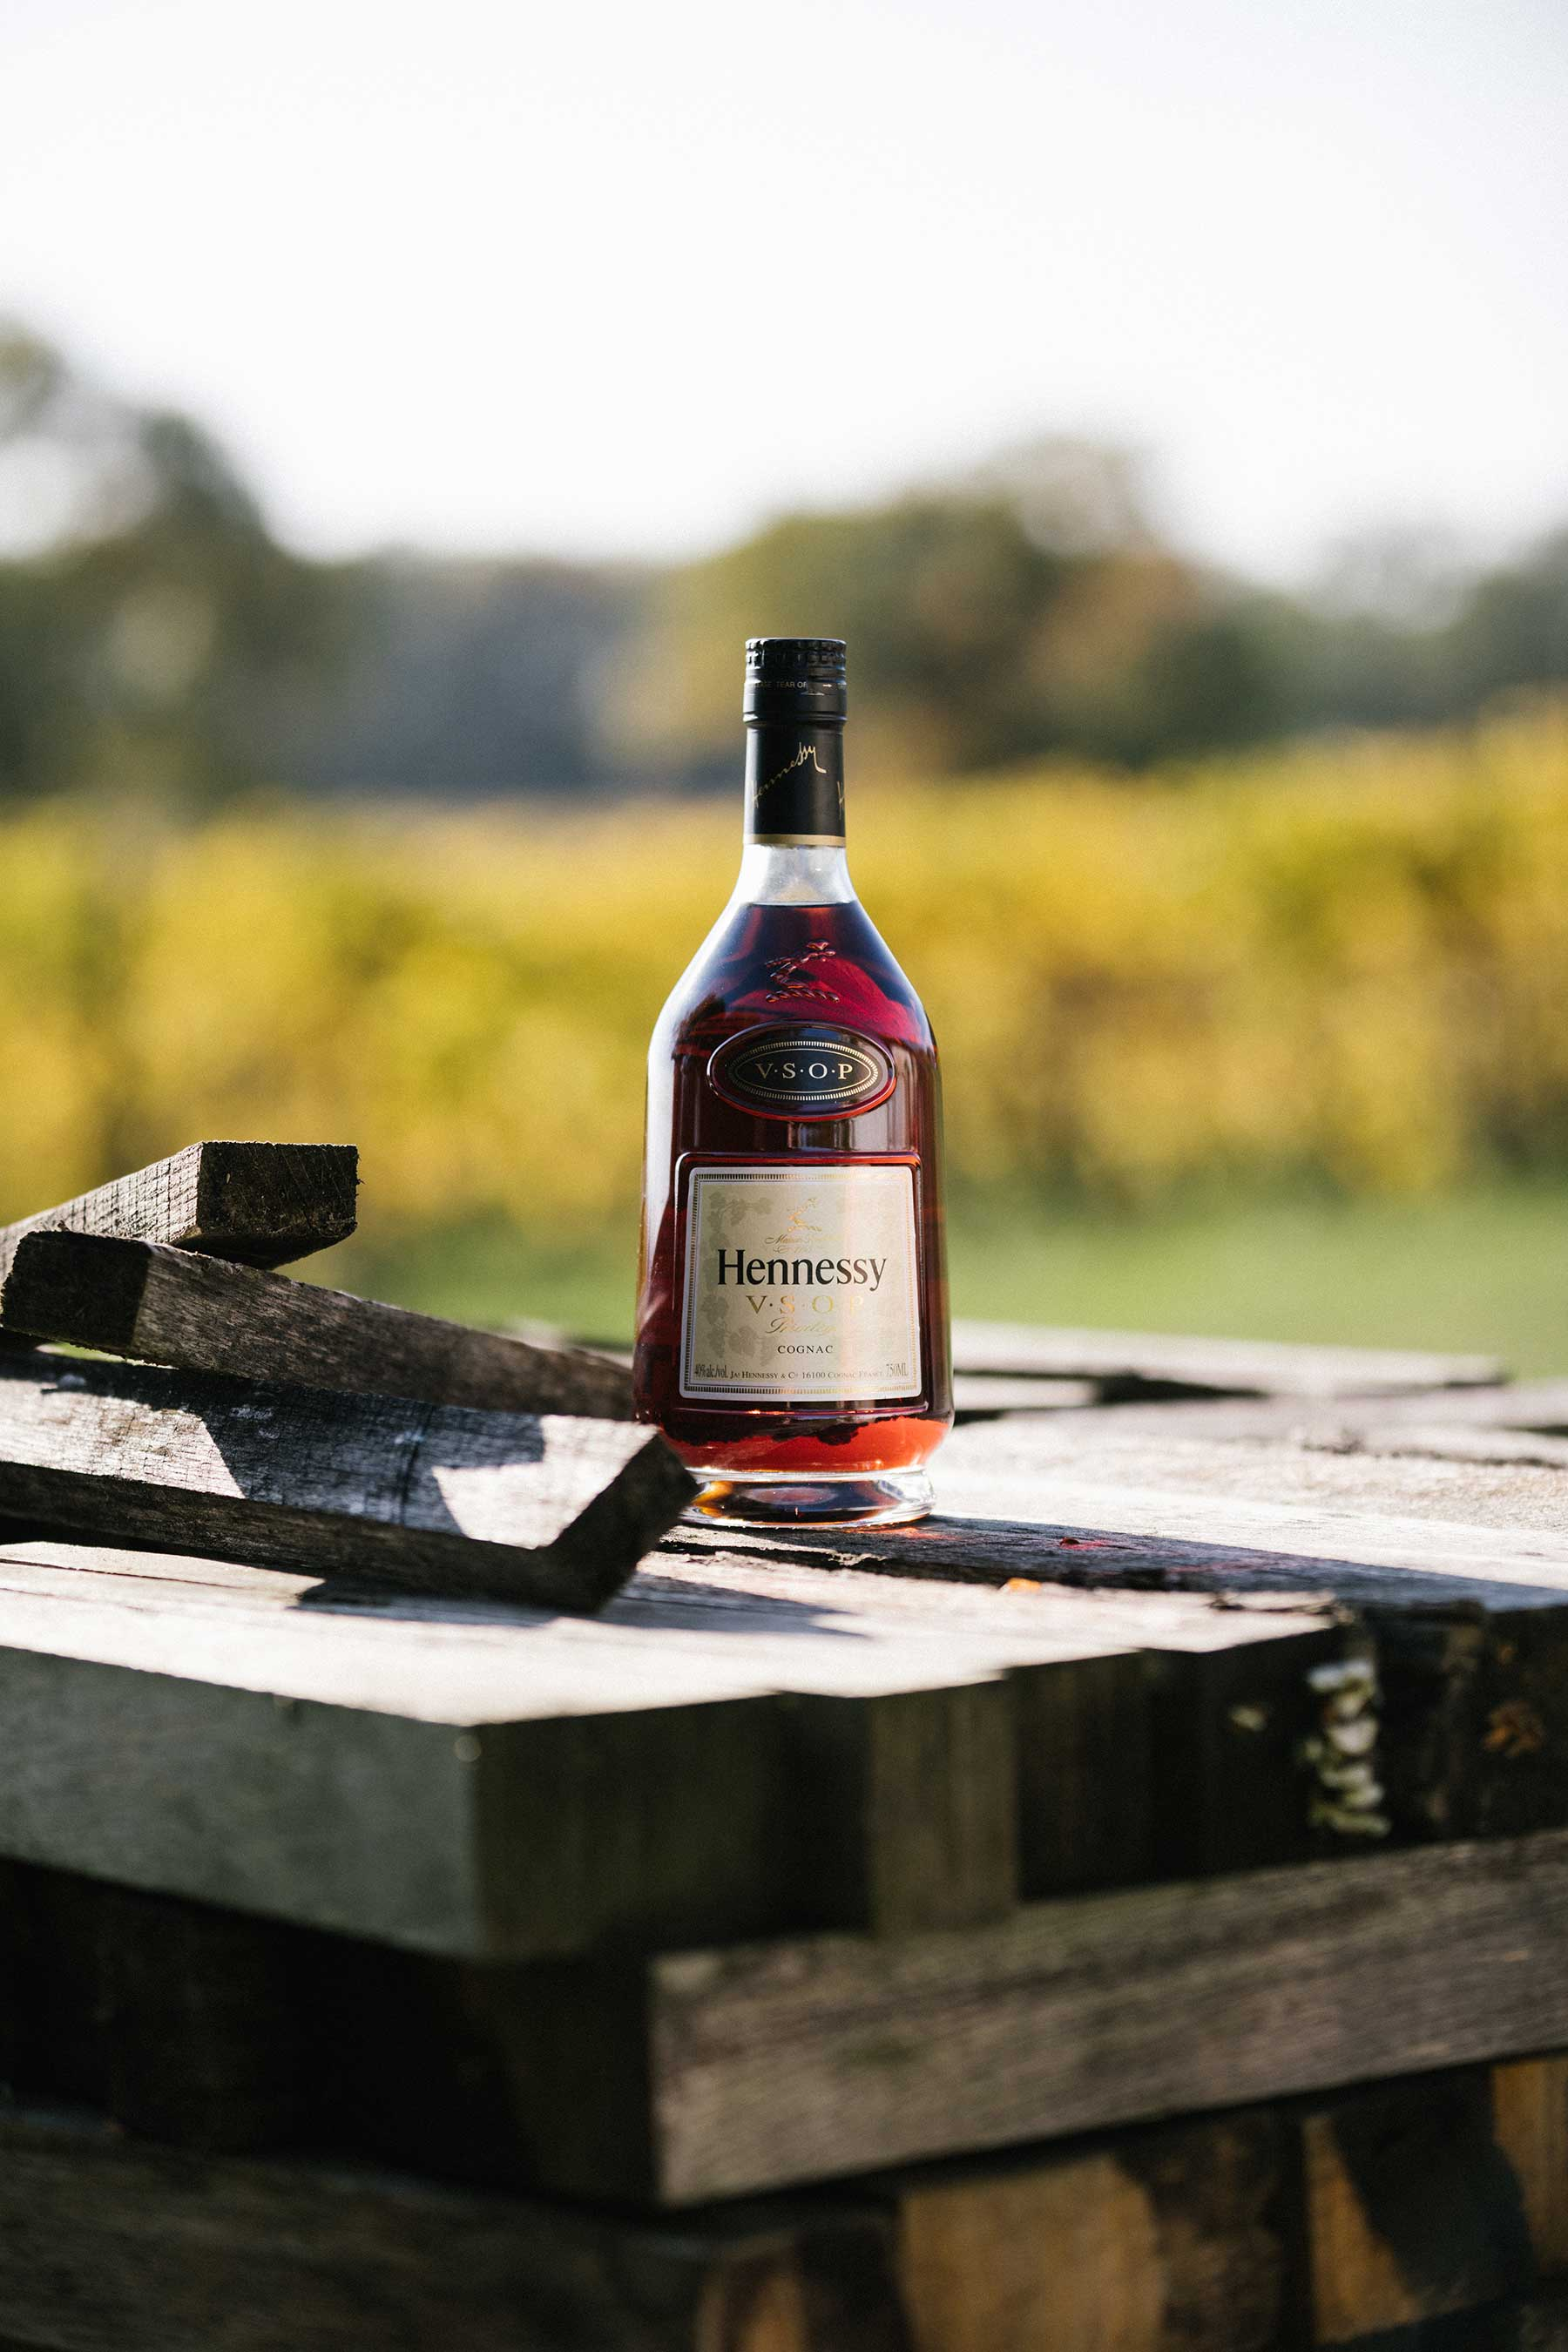Hennessy: (584, 602, 1010, 1542)
